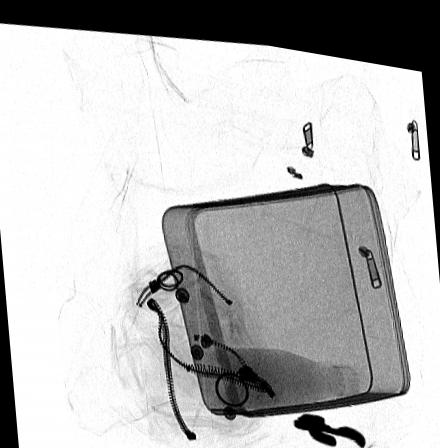Pliers: (293, 400, 365, 436)
